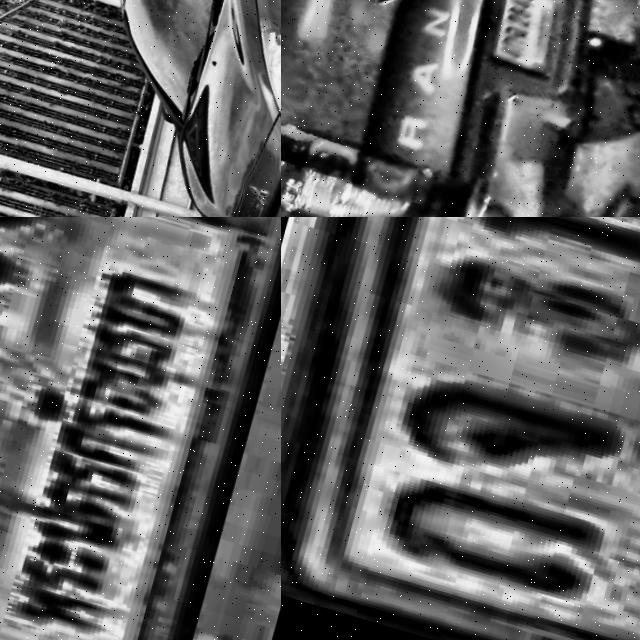license-plate: (281, 217, 640, 640), (0, 217, 281, 640), (480, 0, 576, 80)
